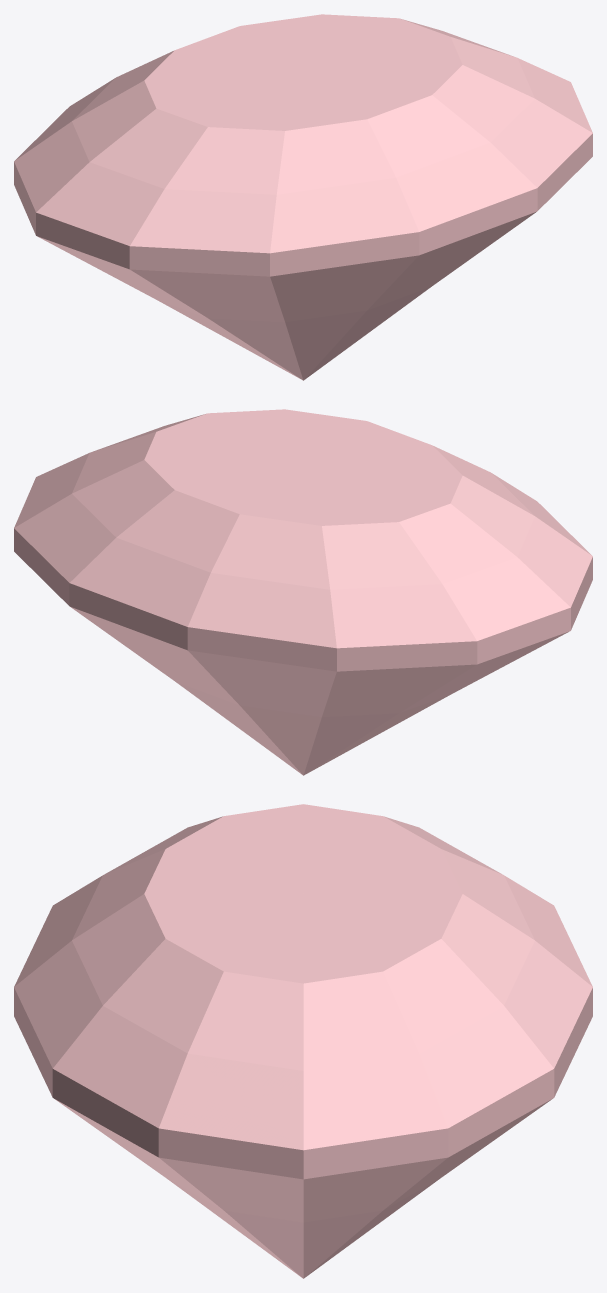
File: morganite-glass.glb
3 views of the same model, one above another, from view 1: azimuth 30°, elevation 25°; view 2: azimuth 150°, elevation 25°; view 3: azimuth 270°, elevation 25° (orthographic). The views are drawn at different scales.
Visible parts, largest first — view 1: Morganite; view 2: Morganite; view 3: Morganite.
Part boxes in pixels (x1,y1,x2,y2): Morganite: [14, 14, 592, 380]; Morganite: [14, 409, 592, 775]; Morganite: [14, 804, 592, 1278].
Bounding box in the file's own units: 2.4 × 1.32 × 1.8.
